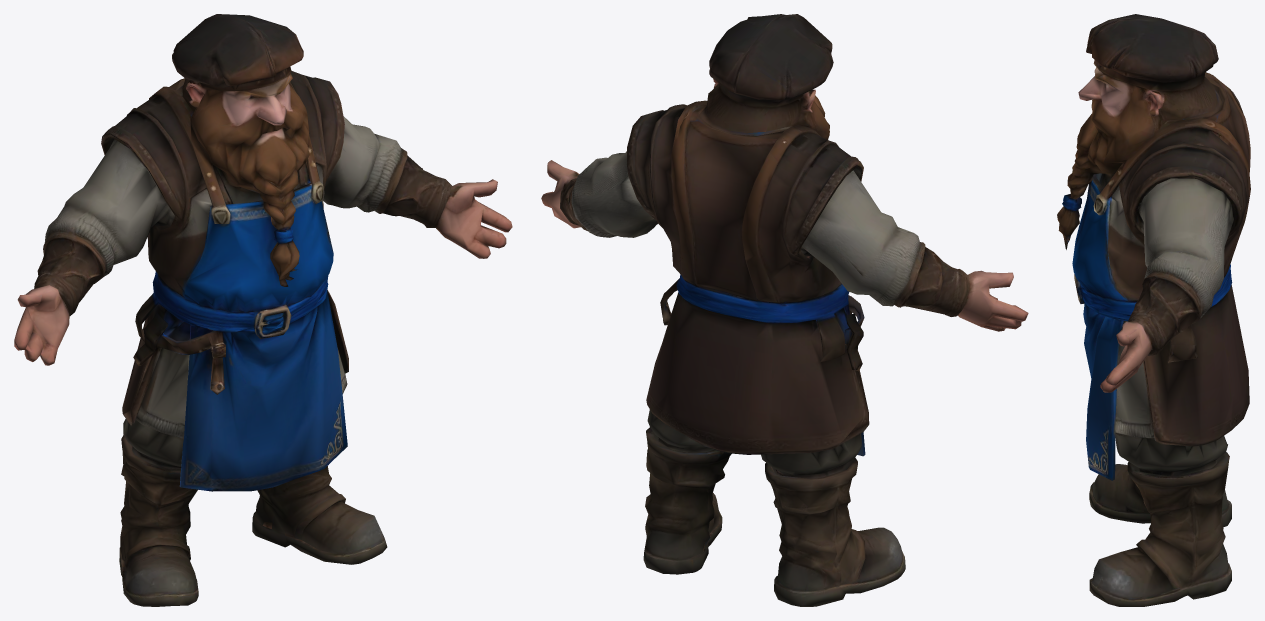
File: dwf_worker.glb
The picture shows the model from 3 angles, left to right: view 1: azimuth 30°, elevation 25°; view 2: azimuth 150°, elevation 25°; view 3: azimuth 270°, elevation 25°; orthographic projection. The views are drawn at different scales.
Parts seen in each view (by area): view 1: node_0; view 2: node_0; view 3: node_0.
Boxes of the visible parts, x1,y1,x2,y2 form: node_0: (14,14,512,606); node_0: (541,14,1028,606); node_0: (1057,14,1250,606).
Size of the model in its own units: 1.03 by 1.09 by 0.3596.
Materials: 1 (1 with a texture image).
